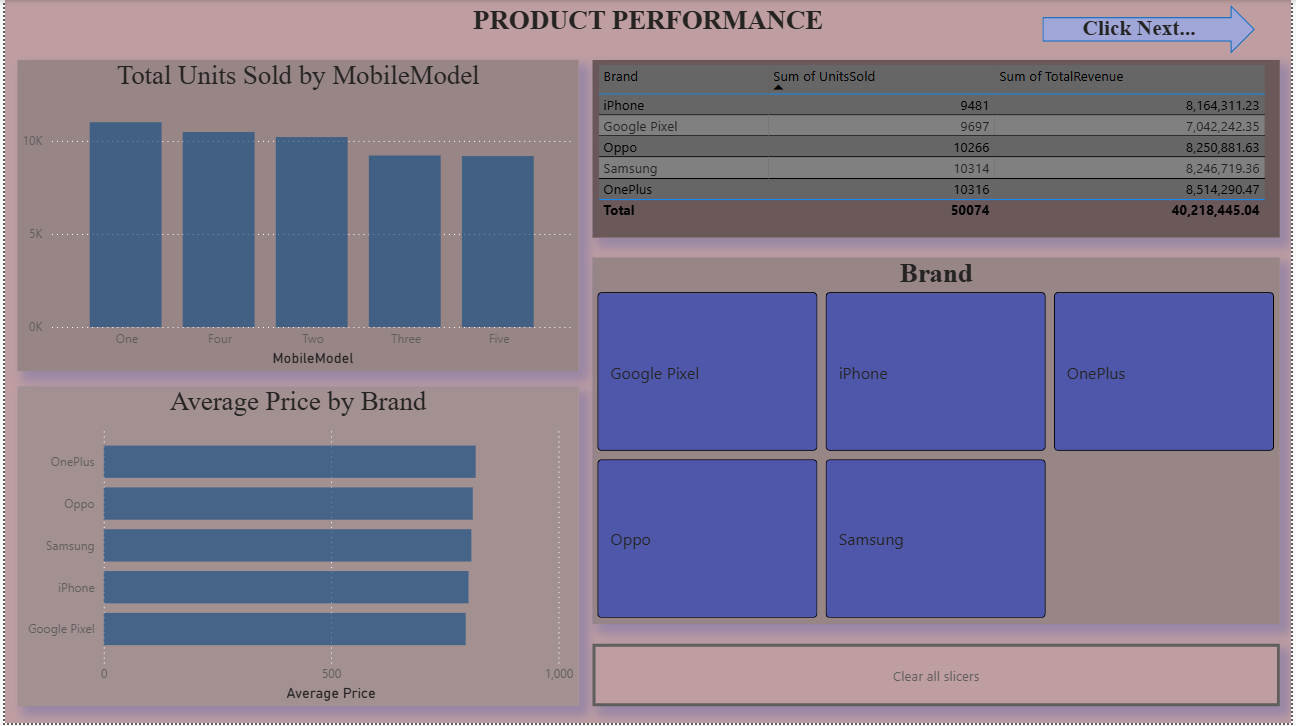

This screenshot's page, from the dashboard's own definition file:
{"tool":"powerbi","page":{"name":"Page 2","canvas":[1280,720],"ordinal":1},"visuals":[{"type":"textbox","box":[434.1,0,411.8,43.5],"z":0},{"type":"columnChart","fields":{"Category":["mobile_sales.MobileModel"],"Y":["mobile_sales.Total Units Sold"]},"box":[12.4,59.7,558.5,309.7],"z":1000},{"type":"barChart","fields":{"Category":["mobile_sales.Brand"],"Y":["mobile_sales.Average Price"]},"box":[12.4,384.4,558.5,318.5],"z":2000},{"type":"tableEx","fields":{"Values":["mobile_sales.Brand","Sum(mobile_sales.UnitsSold)","Sum(mobile_sales.TotalRevenue)"]},"box":[584.7,59.7,684.2,176.6],"z":3000},{"type":"advancedSlicerVisual","fields":{"Values":["mobile_sales.Brand"]},"box":[584.7,256.3,684.2,364.5],"z":4000},{"type":"actionButton","box":[584.7,640.6,684.2,62.2],"z":5000},{"type":"shape","box":[1032.5,5,211.5,48.5],"z":6000},{"type":"textbox","box":[1067.3,11.2,140.6,43.5],"z":7000}]}

Visuals, with their boxes in screenshot pixels (x1, y1, x2, y2), scaled from the page's 1280x720 canvas onto the 1296x726 screenshot:
textbox: {"left": 440, "top": 0, "right": 856, "bottom": 44}
columnChart - mobile_sales.MobileModel x mobile_sales.Total Units Sold: {"left": 13, "top": 60, "right": 578, "bottom": 372}
barChart - mobile_sales.Brand x mobile_sales.Average Price: {"left": 13, "top": 388, "right": 578, "bottom": 709}
tableEx - mobile_sales.Brand x Sum(mobile_sales.UnitsSold): {"left": 592, "top": 60, "right": 1285, "bottom": 238}
advancedSlicerVisual - mobile_sales.Brand: {"left": 592, "top": 258, "right": 1285, "bottom": 626}
actionButton: {"left": 592, "top": 646, "right": 1285, "bottom": 709}
shape: {"left": 1045, "top": 5, "right": 1260, "bottom": 54}
textbox: {"left": 1081, "top": 11, "right": 1223, "bottom": 55}
